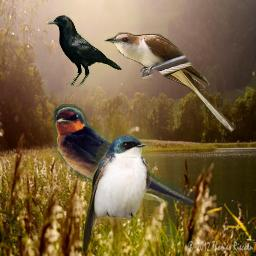Crow: (46, 15, 122, 87)
Cuckoo: (104, 32, 236, 133)
Swallow: (53, 104, 195, 205), (82, 130, 153, 253)
